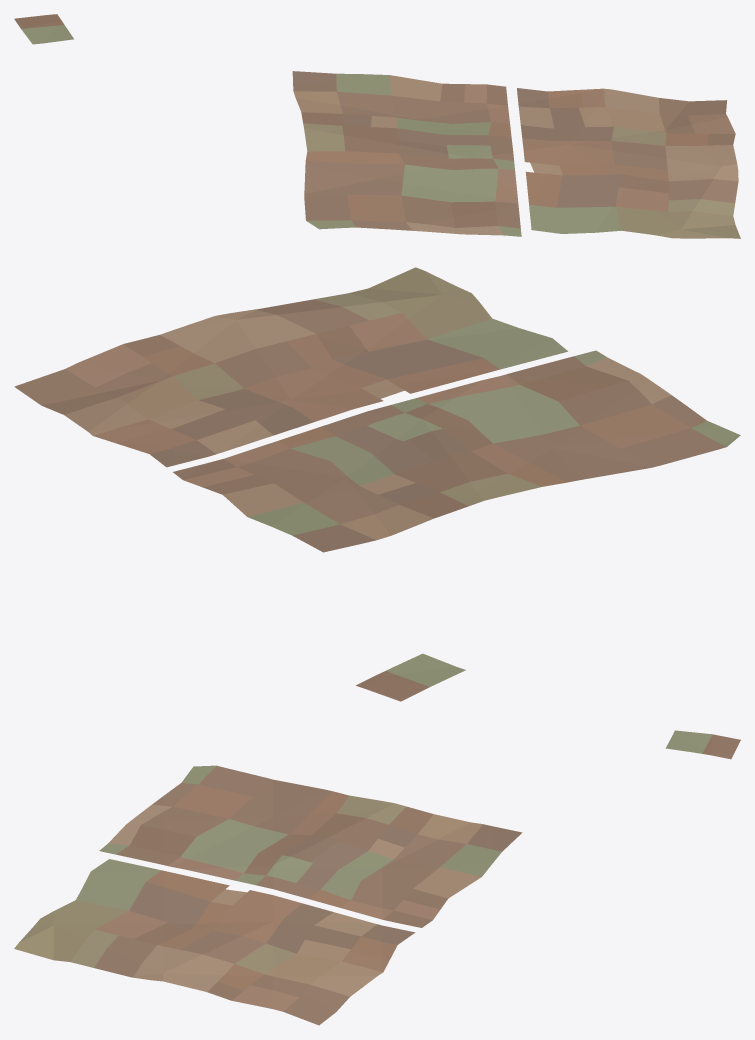
The model's file is farm_3_3_soil.glb.
The picture shows the model from 3 angles, top to bottom: view 1: azimuth 30°, elevation 25°; view 2: azimuth 150°, elevation 25°; view 3: azimuth 270°, elevation 25°; orthographic projection. The views are drawn at different scales.
Parts seen in each view (by area): view 1: geometry_0; view 2: geometry_0; view 3: geometry_0.
Part boxes in pixels (box(x1,y1,x2,y2)): geometry_0: box(14, 14, 740, 238); geometry_0: box(14, 267, 740, 701); geometry_0: box(14, 730, 740, 1025).
Bounding box in the file's own units: 426 × 39.12 × 530.
